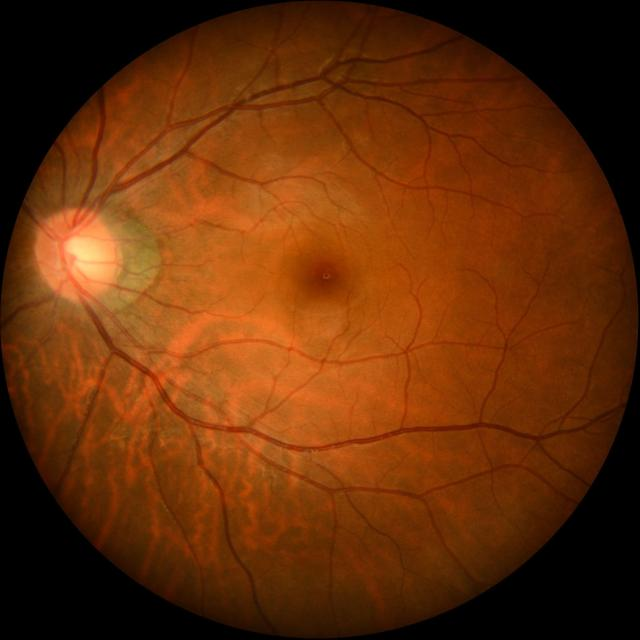OC: (60, 230, 106, 279)
OD: (38, 208, 117, 300)
